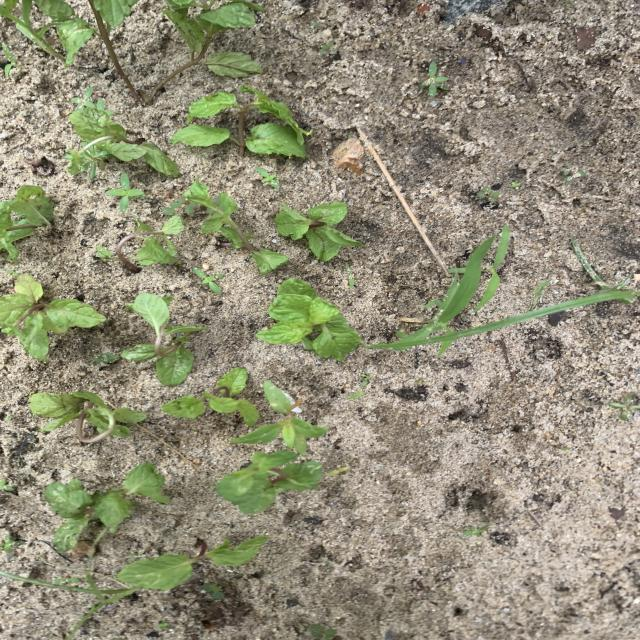crop: (56, 0, 261, 105), (46, 463, 168, 551), (185, 179, 287, 273), (173, 86, 310, 155), (1, 274, 104, 359), (256, 279, 361, 359), (117, 537, 267, 590), (123, 294, 207, 384), (70, 108, 178, 175), (218, 451, 322, 512), (161, 367, 259, 426), (30, 392, 145, 442), (276, 202, 362, 259), (97, 217, 183, 271), (1, 185, 55, 261)
weed: (368, 237, 494, 349), (1, 568, 135, 639), (231, 380, 326, 454), (0, 0, 57, 55), (475, 226, 510, 311), (107, 173, 146, 211), (67, 145, 108, 178), (420, 62, 448, 95), (609, 394, 639, 419), (195, 268, 222, 293), (71, 87, 95, 110), (163, 199, 195, 215), (477, 185, 499, 207), (258, 168, 279, 187), (1, 534, 21, 551), (311, 625, 335, 639), (203, 583, 223, 598), (344, 263, 355, 289), (326, 466, 349, 477), (463, 526, 487, 535), (94, 353, 118, 362), (320, 42, 334, 54), (1, 480, 14, 490), (361, 374, 370, 385), (348, 392, 363, 398), (510, 182, 519, 189)
